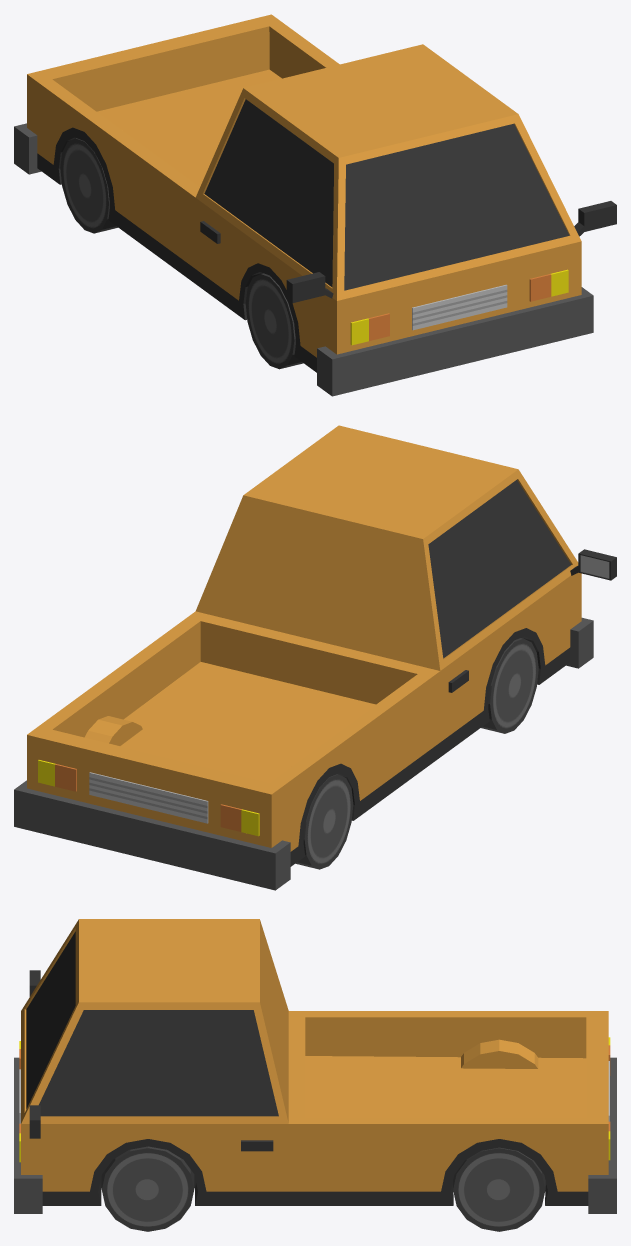
File: miniTruck01_color03.fbx
3 views of the same model, one above another, from view 1: azimuth 30°, elevation 25°; view 2: azimuth 150°, elevation 25°; view 3: azimuth 270°, elevation 25° (orthographic). The views are drawn at different scales.
Parts seen in each view (by area): view 1: Cube.465, Cube.464, Cube.468; view 2: Cube.465, Cube.464, Cube.468; view 3: Cube.465, Cube.467, Cube.466.
Boxes of the visible parts, x1,y1,x2,y2 form: Cube.465: (14,14,616,396); Cube.464: (245,273,303,369); Cube.468: (60,138,117,233); Cube.465: (14,425,616,890); Cube.464: (481,638,538,733); Cube.468: (295,774,353,869); Cube.465: (14,919,616,1213); Cube.467: (101,1146,194,1231); Cube.466: (453,1147,545,1231).
Size of the model in its own units: 280 by 187 by 476.
